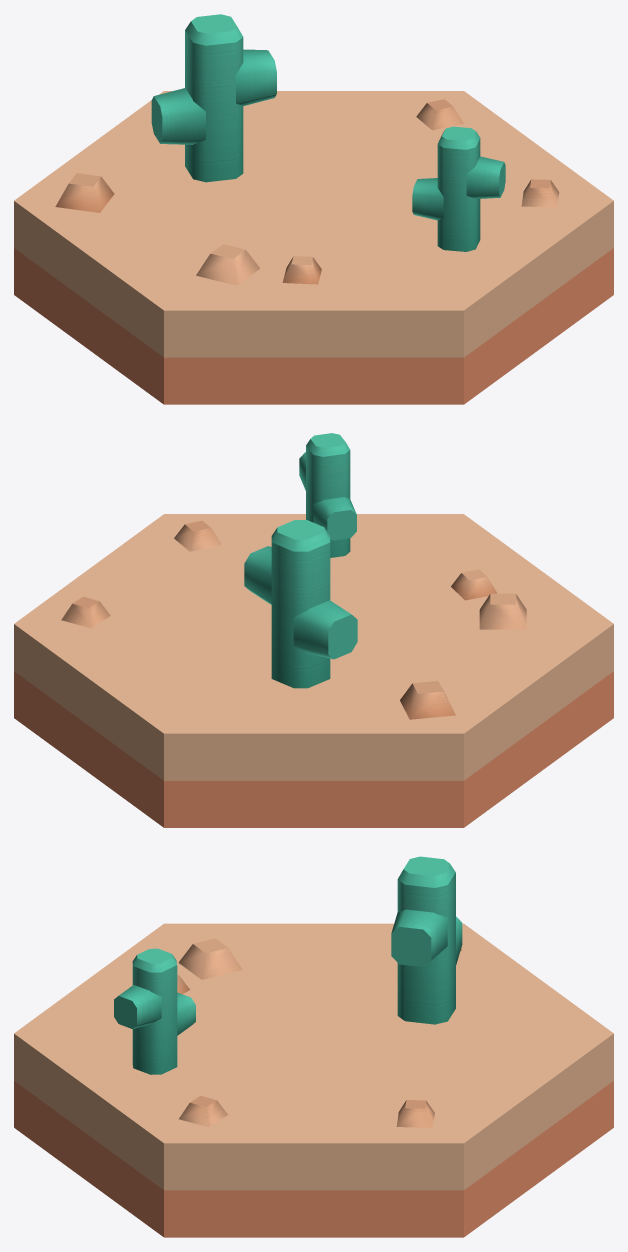
File: sand-desert.glb
The picture shows the model from 3 angles, top to bottom: view 1: azimuth 30°, elevation 25°; view 2: azimuth 150°, elevation 25°; view 3: azimuth 270°, elevation 25°; orthographic projection.
Visible parts, largest first — view 1: sand-desert; view 2: sand-desert; view 3: sand-desert.
Part boxes in pixels (x1,y1,x2,y2): sand-desert: (14, 14, 613, 404); sand-desert: (14, 433, 613, 827); sand-desert: (14, 856, 613, 1237).
Size of the model in its own units: 1 by 0.51 by 1.15.
Materials: 1 (1 with a texture image).
